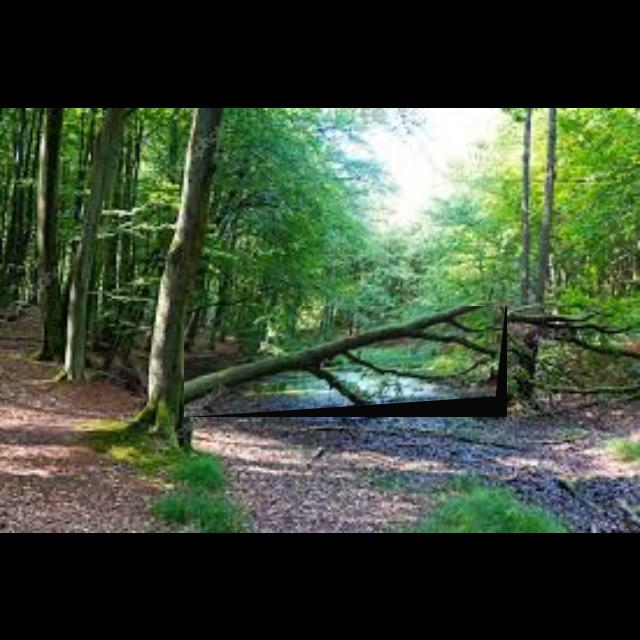Fallen Tree: (184, 306, 508, 418)
